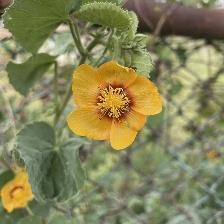indian mallow: (66, 59, 165, 153)
